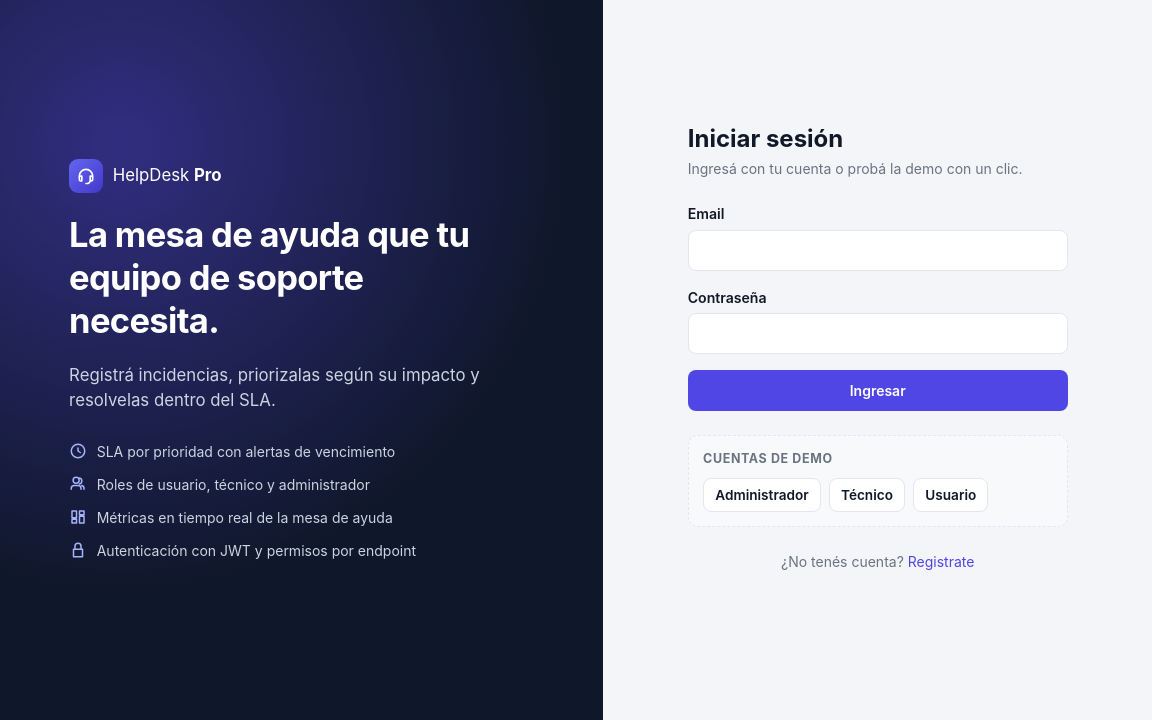
Scenario: LoginPage › avisa si el backend no responde
The image size is (1152, 720).
Click the button "Usuario" at (951, 495), box [913, 478, 988, 512]
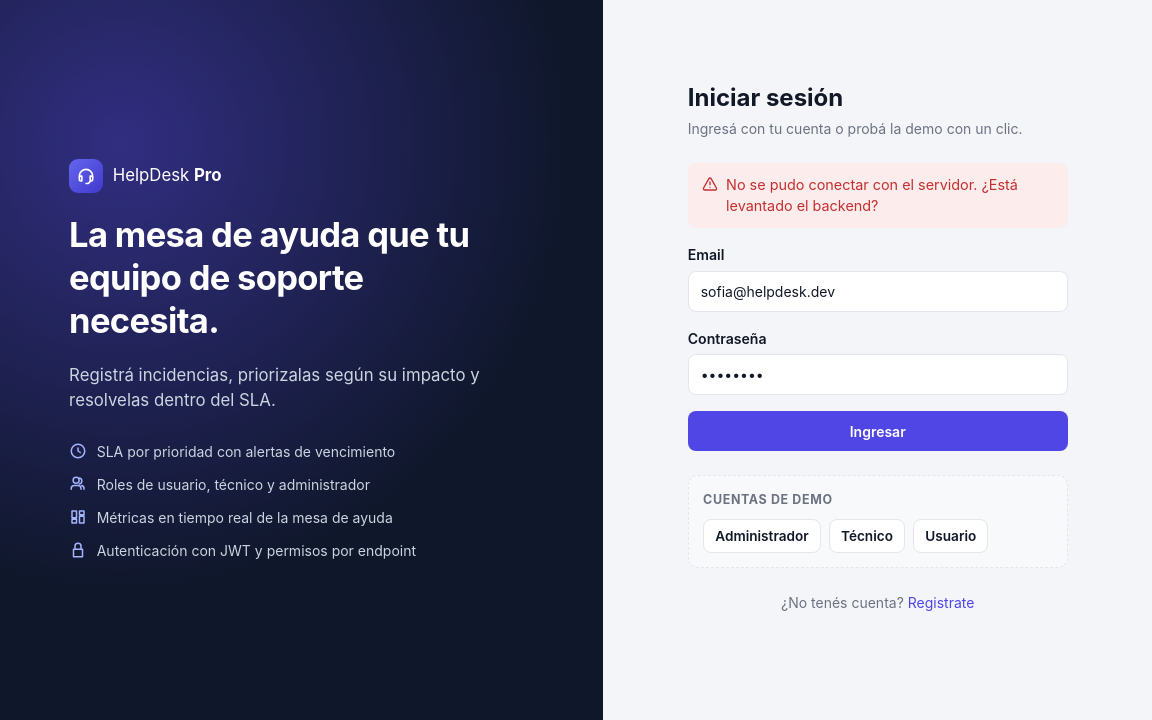
Result: the message shows "No se pudo conectar con el servidor" at [726, 176, 1018, 214]
